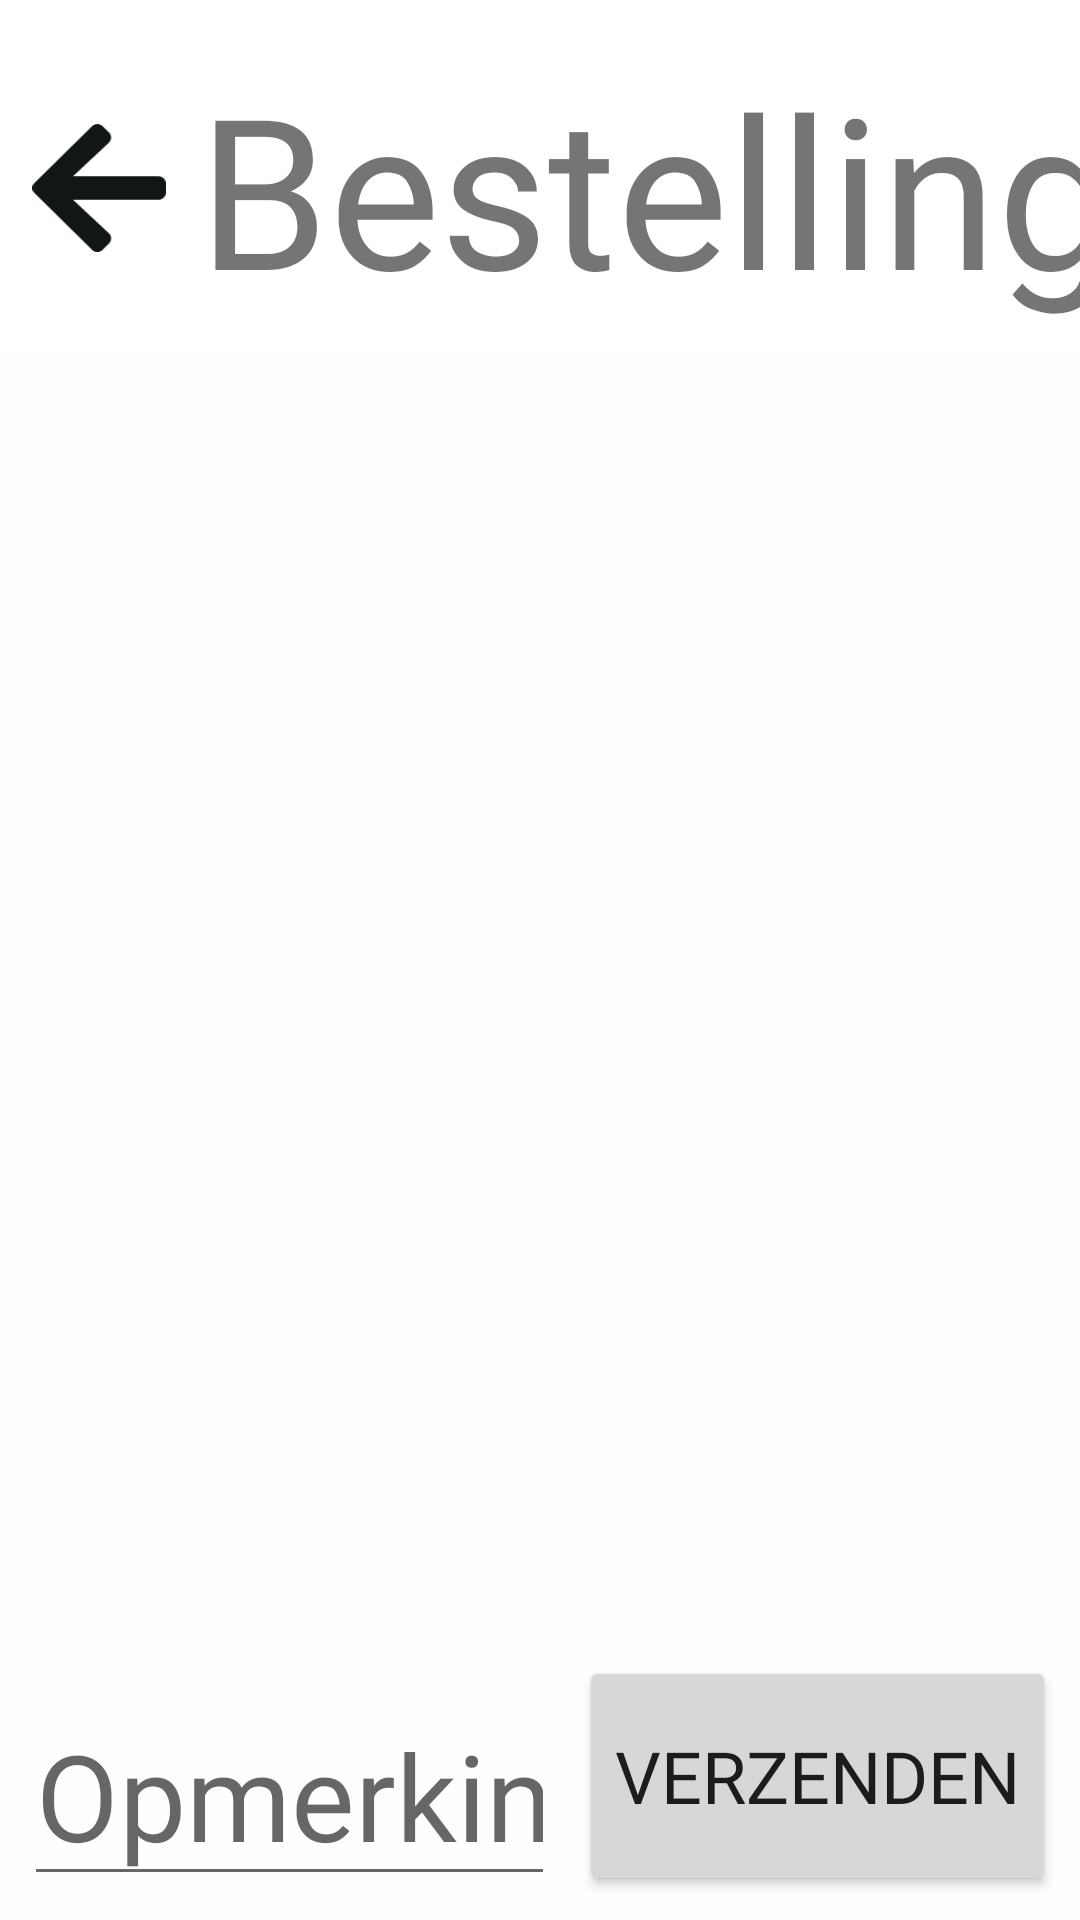

Named icons in this screenshot (1080×1920) and their centers, (x=x, y=y):
arrow left: (x=99, y=188)
